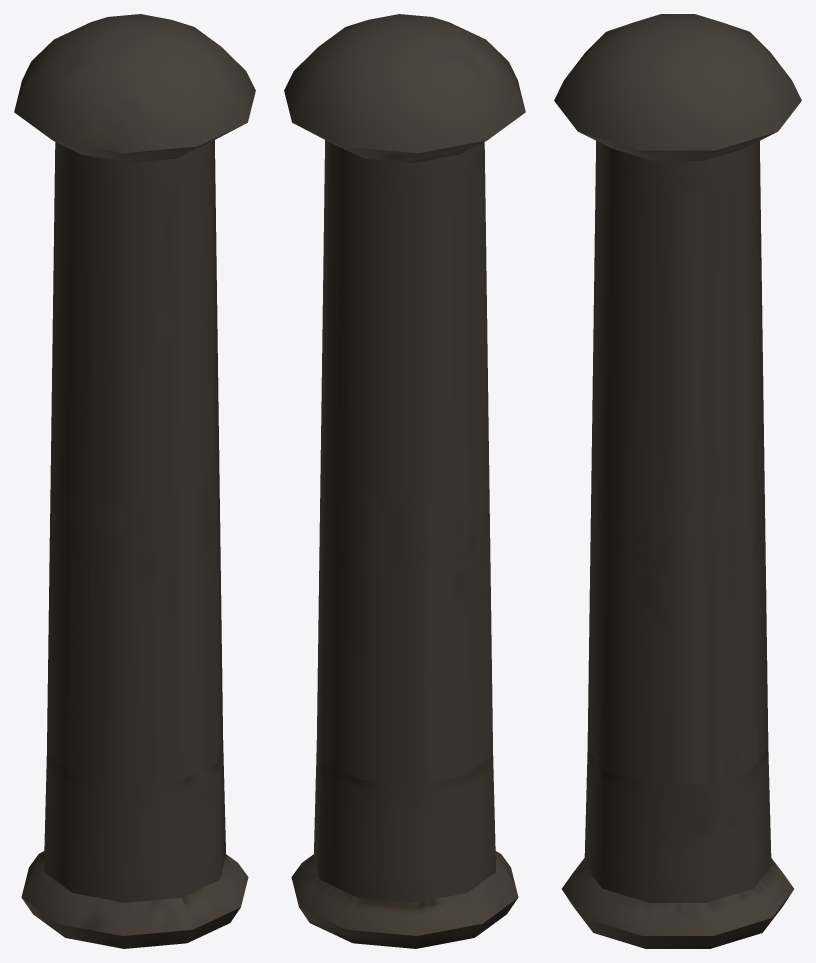
The model's file is quaternius_prop_bollard.glb.
3 views of the same model, side by side, from view 1: azimuth 30°, elevation 25°; view 2: azimuth 150°, elevation 25°; view 3: azimuth 270°, elevation 25° (orthographic).
Parts seen in each view (by area): view 1: Prop_Bollard; view 2: Prop_Bollard; view 3: Prop_Bollard.
Part boxes in pixels (x1,y1,x2,y2): Prop_Bollard: [14, 14, 255, 948]; Prop_Bollard: [284, 14, 525, 948]; Prop_Bollard: [554, 14, 801, 948].
Size of the model in its own units: 0.2163 by 0.8918 by 0.2274.
Materials: 1 (1 with a texture image).
